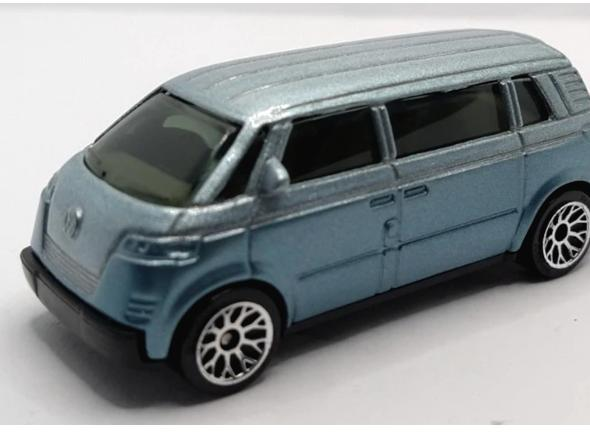toy-car: (18, 29, 590, 395)
